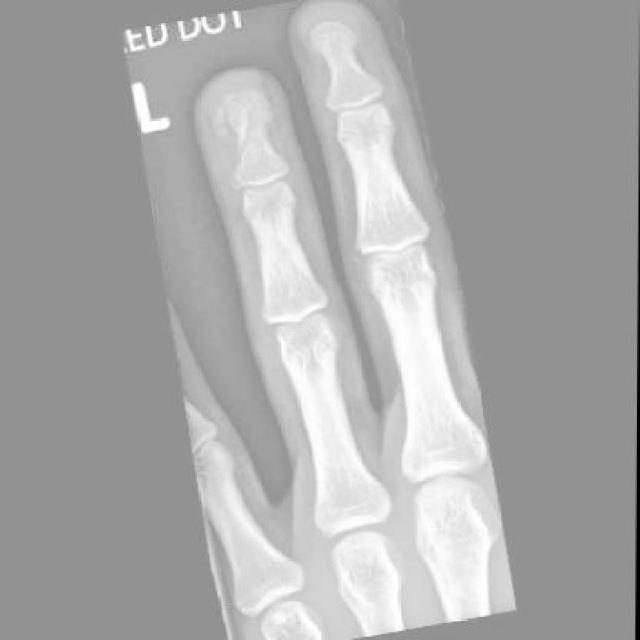Fracture: (197, 74, 276, 162)
